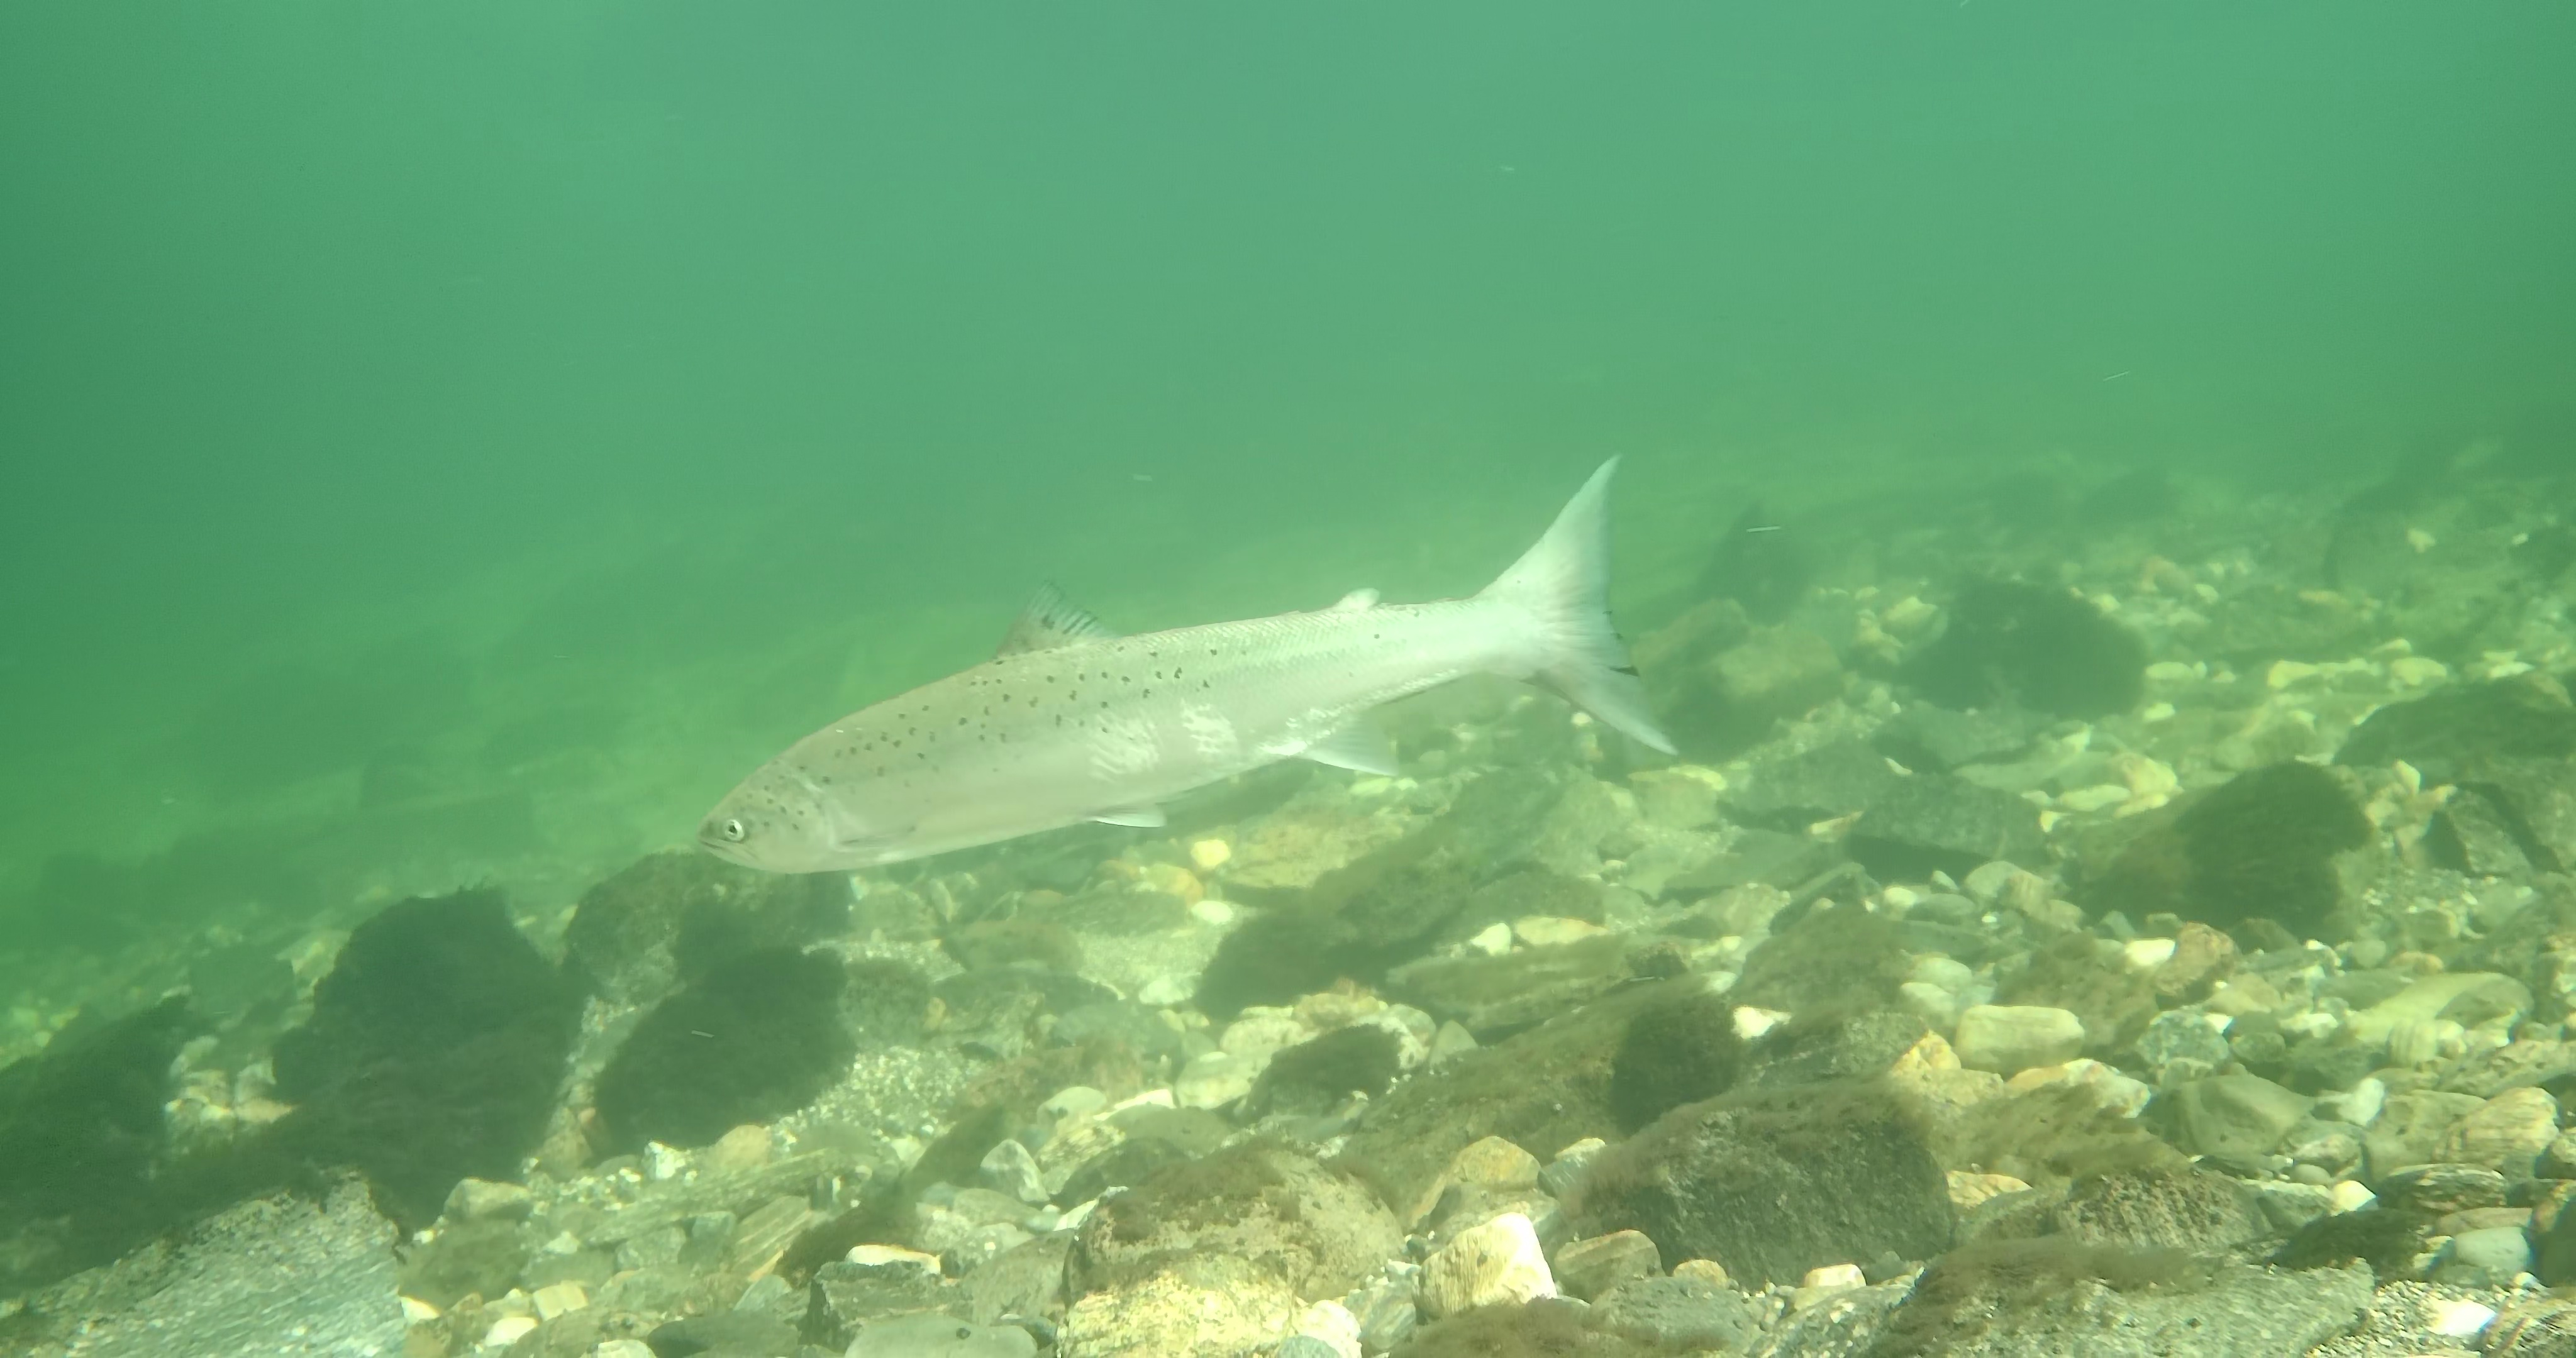salmon: (692, 450, 1682, 878)
